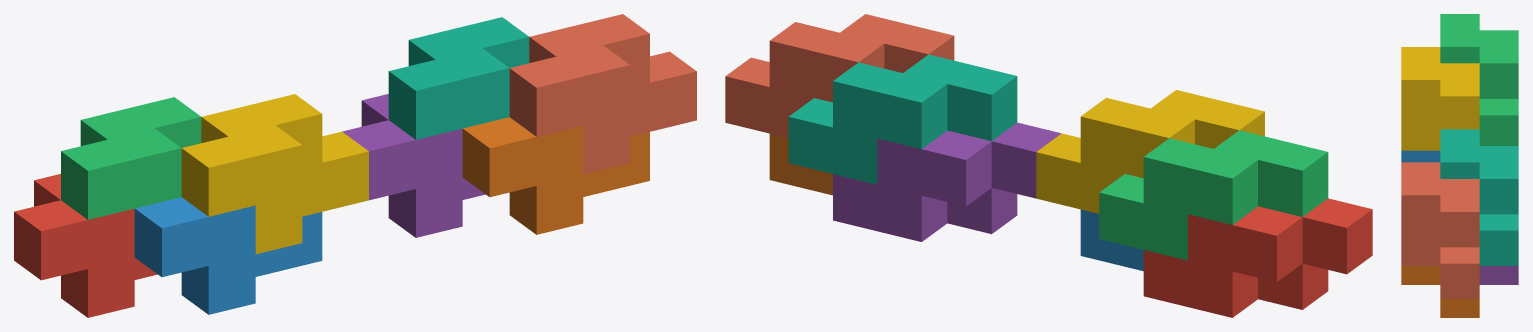
Rendered from tiling.obj.
3 views of the same model, side by side, from view 1: azimuth 30°, elevation 25°; view 2: azimuth 150°, elevation 25°; view 3: azimuth 270°, elevation 25° (orthographic). The views are drawn at different scales.
Parts seen in each view (by area): view 1: copy_1_domain_4, copy_1_domain_8, copy_1_domain_2, copy_1_domain_6, copy_1_domain_7, copy_1_domain_3, copy_1_domain_1, copy_1_domain_5; view 2: copy_1_domain_7, copy_1_domain_1, copy_1_domain_3, copy_1_domain_5, copy_1_domain_8, copy_1_domain_4, copy_1_domain_6, copy_1_domain_2; view 3: copy_1_domain_8, copy_1_domain_4, copy_1_domain_7, copy_1_domain_3, copy_1_domain_6, copy_1_domain_5, copy_1_domain_2.
Boxes of the visible parts, box(x1,y1,x2,y2) form: copy_1_domain_4: box(181, 94, 368, 254); copy_1_domain_8: box(509, 14, 696, 174); copy_1_domain_2: box(134, 197, 322, 314); copy_1_domain_6: box(462, 117, 649, 234); copy_1_domain_7: box(388, 17, 529, 139); copy_1_domain_3: box(61, 97, 201, 219); copy_1_domain_1: box(14, 174, 157, 317); copy_1_domain_5: box(342, 94, 485, 237); copy_1_domain_7: box(788, 54, 1017, 184); copy_1_domain_1: box(1143, 198, 1372, 317); copy_1_domain_3: box(1099, 130, 1328, 260); copy_1_domain_5: box(833, 122, 1061, 241); copy_1_domain_8: box(725, 14, 954, 137); copy_1_domain_4: box(1036, 90, 1264, 213); copy_1_domain_6: box(769, 133, 832, 195); copy_1_domain_2: box(1080, 209, 1143, 271); copy_1_domain_8: box(1401, 162, 1479, 298); copy_1_domain_4: box(1401, 47, 1479, 150); copy_1_domain_7: box(1440, 129, 1518, 265); copy_1_domain_3: box(1440, 14, 1518, 145); copy_1_domain_6: box(1401, 266, 1479, 317); copy_1_domain_5: box(1479, 266, 1518, 284); copy_1_domain_2: box(1401, 150, 1440, 162).
Bounding box in the file's own units: 14 × 3 × 3.
